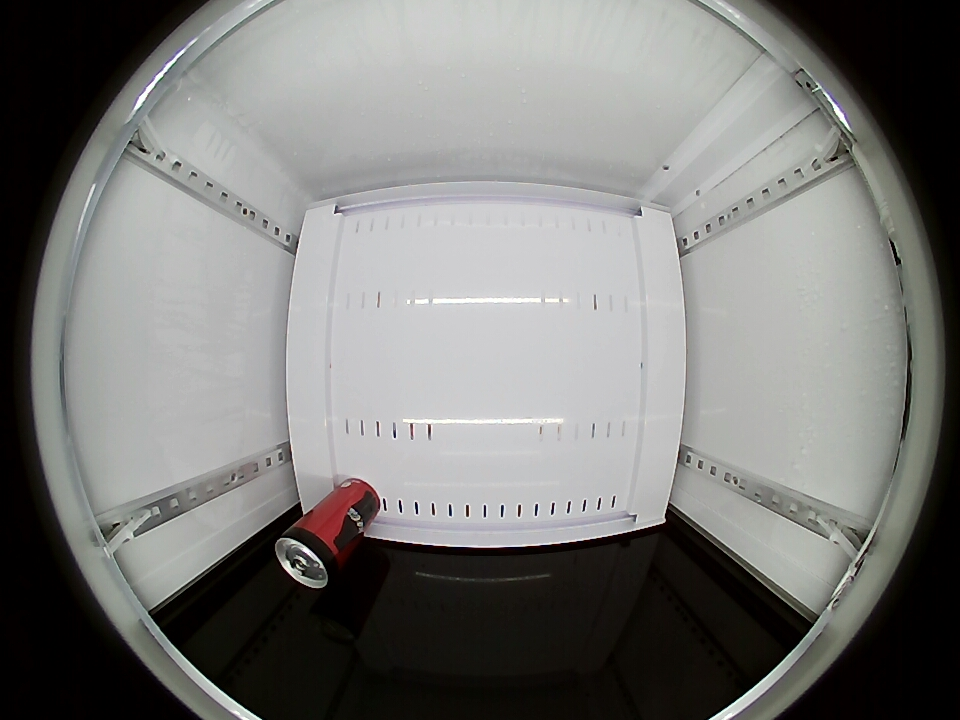lingdukele: (274, 523, 346, 589)
